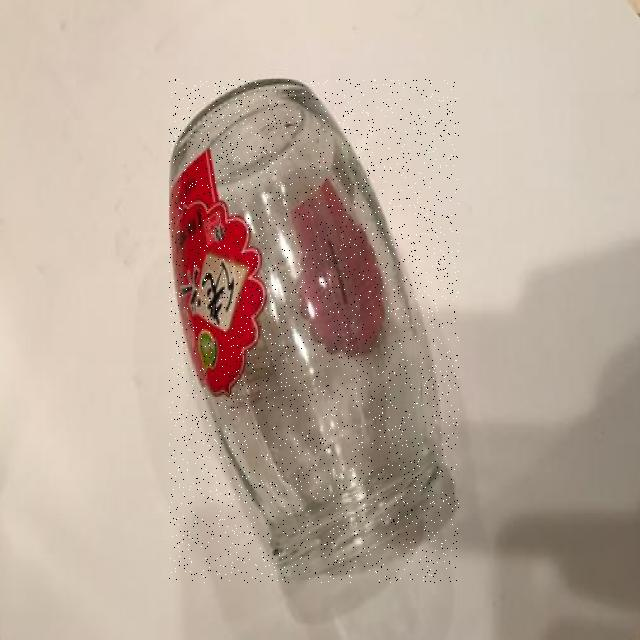glass: (170, 79, 459, 583)
